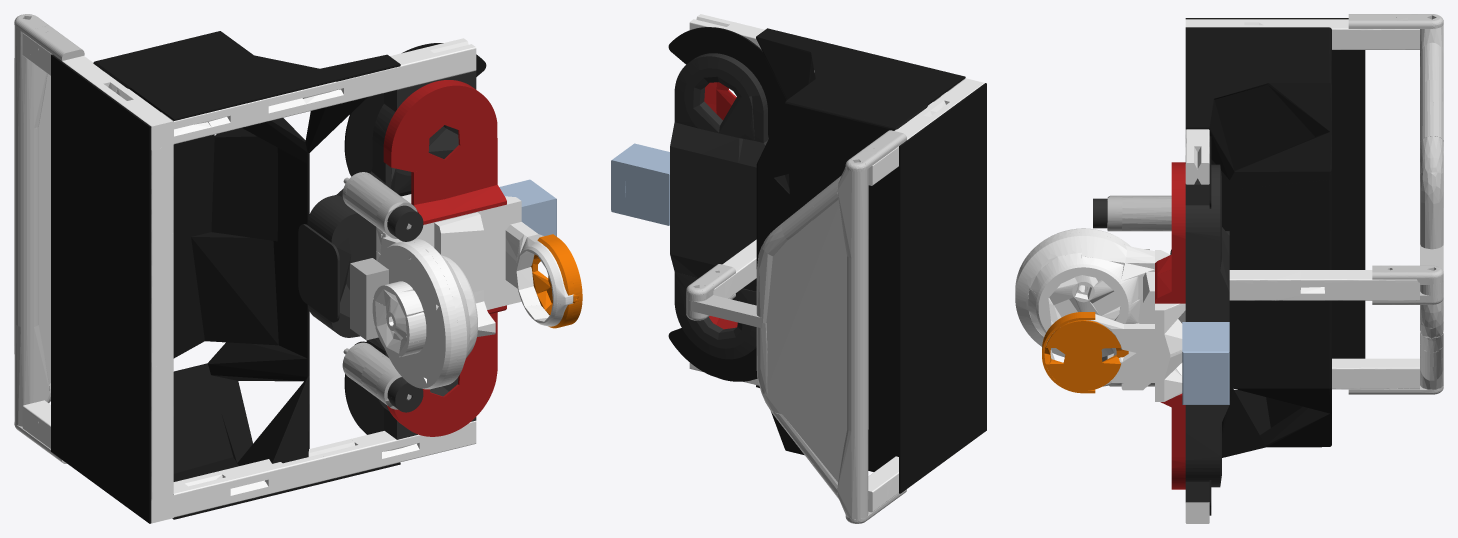
The model's file is BODY_mesh.dae.
3 renders of one model, left to right at view 1: azimuth 30°, elevation 25°; view 2: azimuth 150°, elevation 25°; view 3: azimuth 270°, elevation 25°, orthographic. The views are drawn at different scales.
Visible parts, largest first — view 1: BODY (×30); view 2: BODY (×15); view 3: BODY (×26).
Boxes of the visible parts, x1=… form: BODY (×30): x1=14, y1=14, x2=582, y2=523; BODY (×15): x1=611, y1=14, x2=986, y2=519; BODY (×26): x1=1015, y1=14, x2=1443, y2=523.
Bounding box in the file's own units: 0.3585 × 0.347 × 0.3605.
